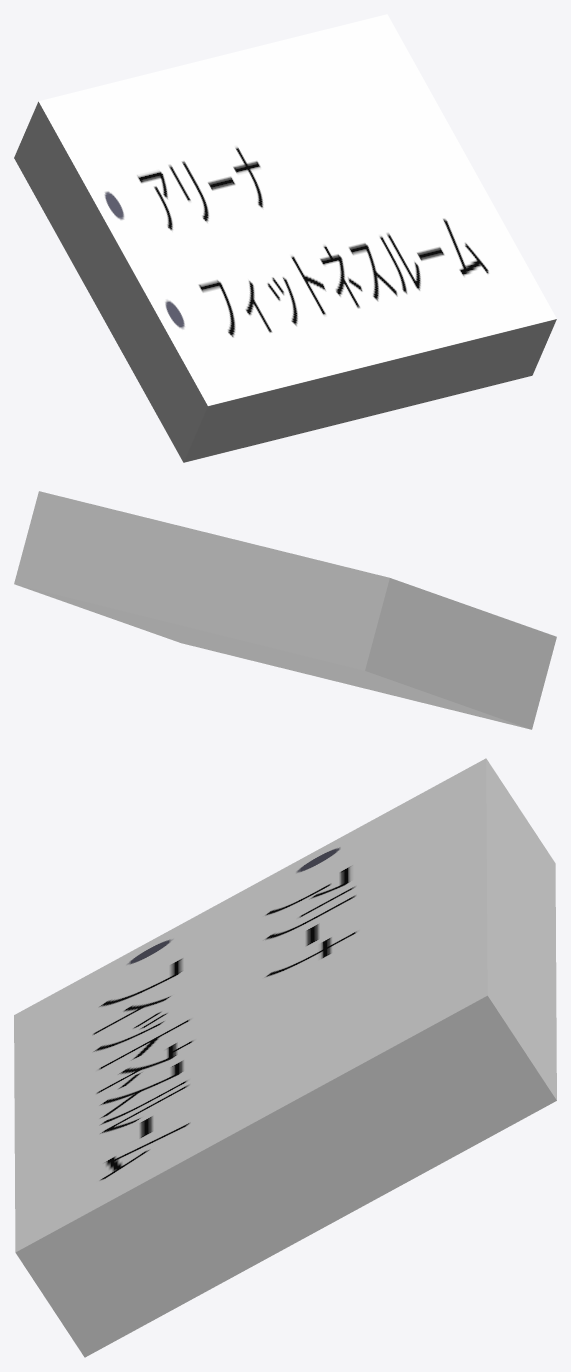
3 renders of one model, top to bottom at view 1: azimuth 30°, elevation 25°; view 2: azimuth 150°, elevation 25°; view 3: azimuth 270°, elevation 25°, orthographic. The views are drawn at different scales.
Visible parts, largest first — view 1: 立方体; view 2: 立方体; view 3: 立方体.
Boxes of the visible parts, x1,y1,x2,y2 form: 立方体: (14,14,556,462); 立方体: (14,491,556,729); 立方体: (14,758,556,1357).
Size of the model in its own units: 0.5038 by 0.3546 by 0.4803.
Materials: 2 (1 with a texture image).
